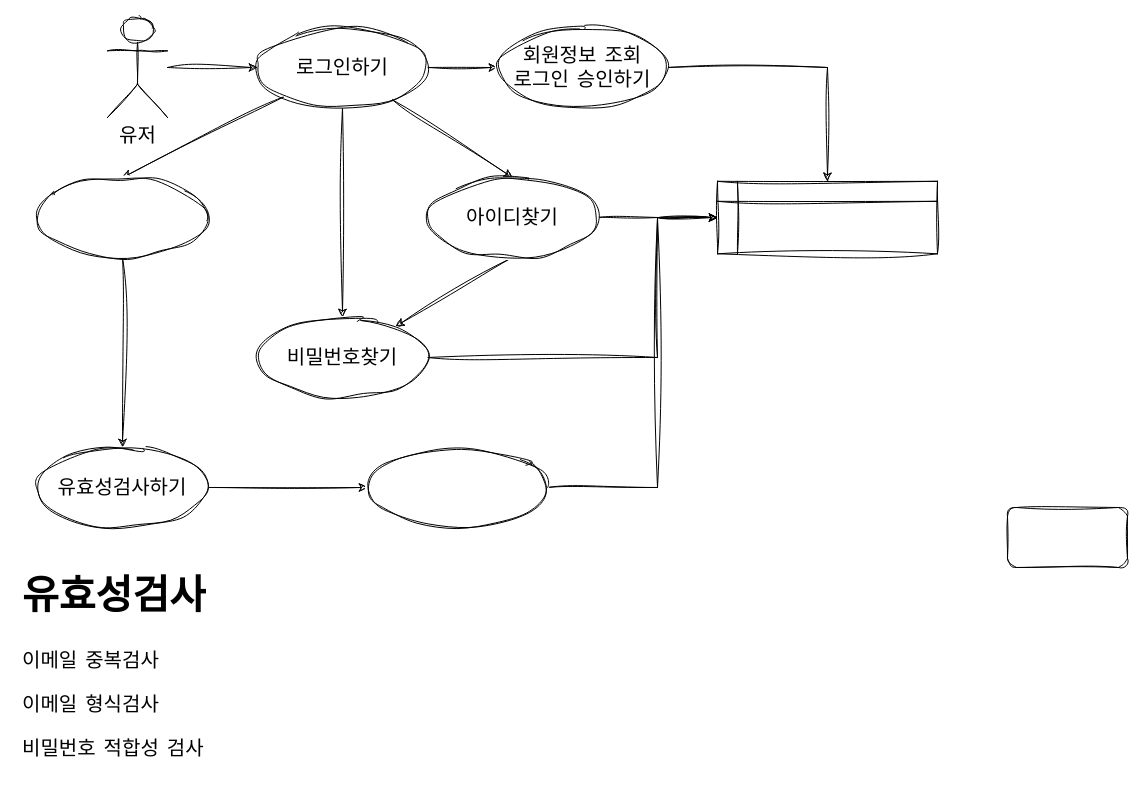
This 1145x795 diagram has some shape labels left out. Here are the shapes that lost their labels. From the top down, the centre of each, then its label:
At pixel 122 217: "회원가입하기".
At pixel 827 217: "회원정보 Table".
At pixel 457 487: "회원정보 저장하기".
